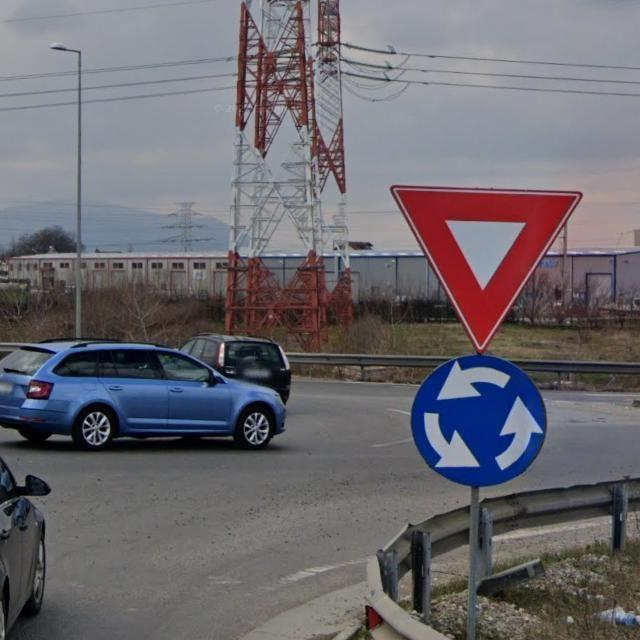prio_give_way: (391, 183, 580, 352)
